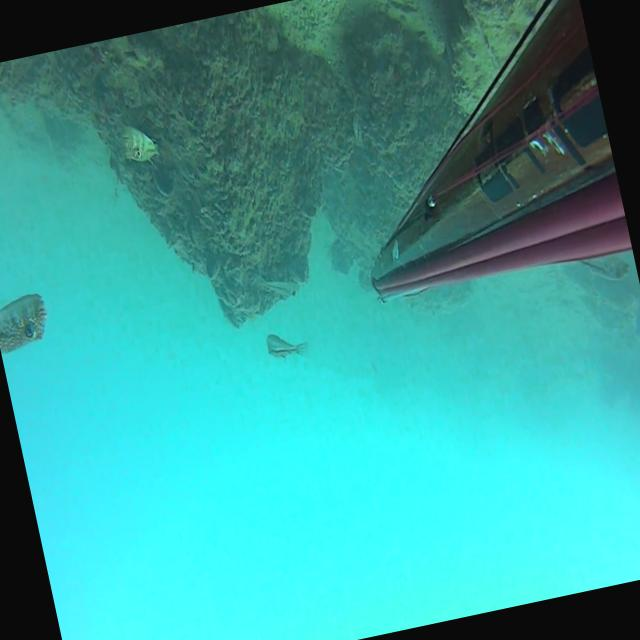Balon Baligi: (0, 290, 51, 354), (118, 120, 160, 170), (578, 248, 630, 286), (254, 265, 298, 303), (264, 326, 308, 364)
